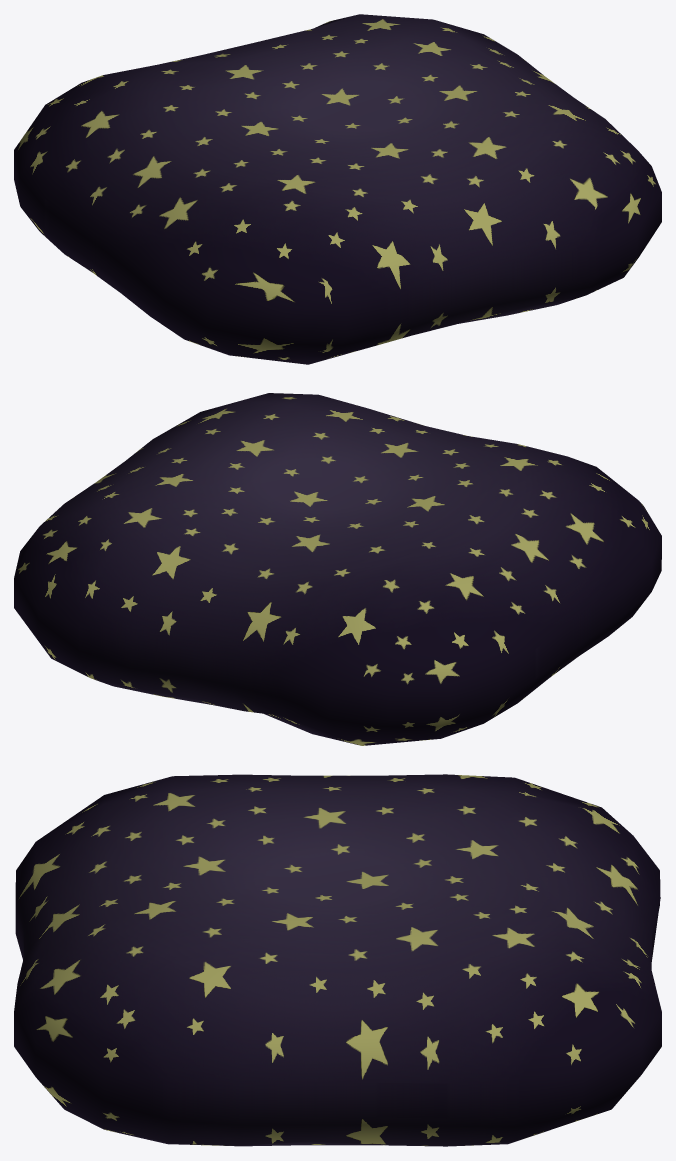
The model's file is FloorDark.glb.
3 renders of one model, top to bottom at view 1: azimuth 30°, elevation 25°; view 2: azimuth 150°, elevation 25°; view 3: azimuth 270°, elevation 25°, orthographic. The views are drawn at different scales.
Visible parts, largest first — view 1: Mball.022; view 2: Mball.022; view 3: Mball.022.
Part boxes in pixels (x1,y1,x2,y2): Mball.022: [14, 14, 661, 364]; Mball.022: [14, 393, 661, 745]; Mball.022: [14, 774, 661, 1146].
Bounding box in the file's own units: 29.71 × 9.83 × 29.11.
1 material, 1 textured.
